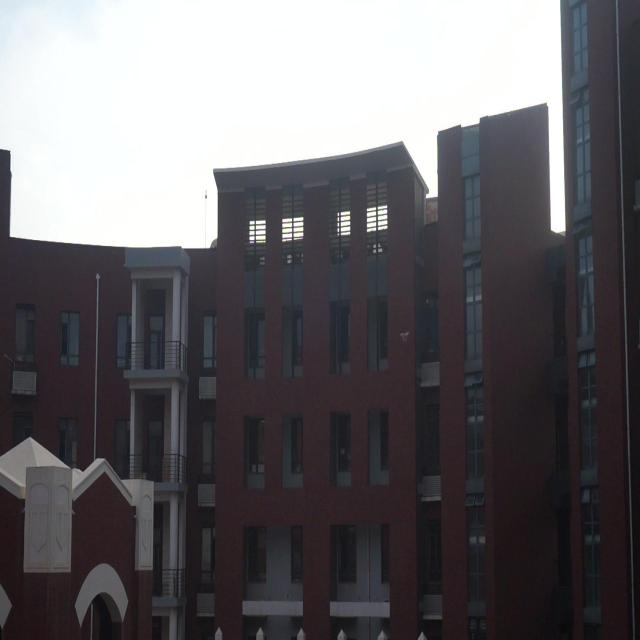drone: (397, 326, 411, 344)
